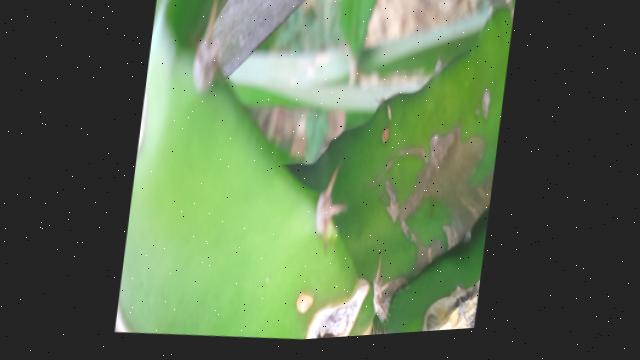stemcanker: (292, 291, 319, 317), (474, 89, 494, 122), (376, 124, 395, 152)
